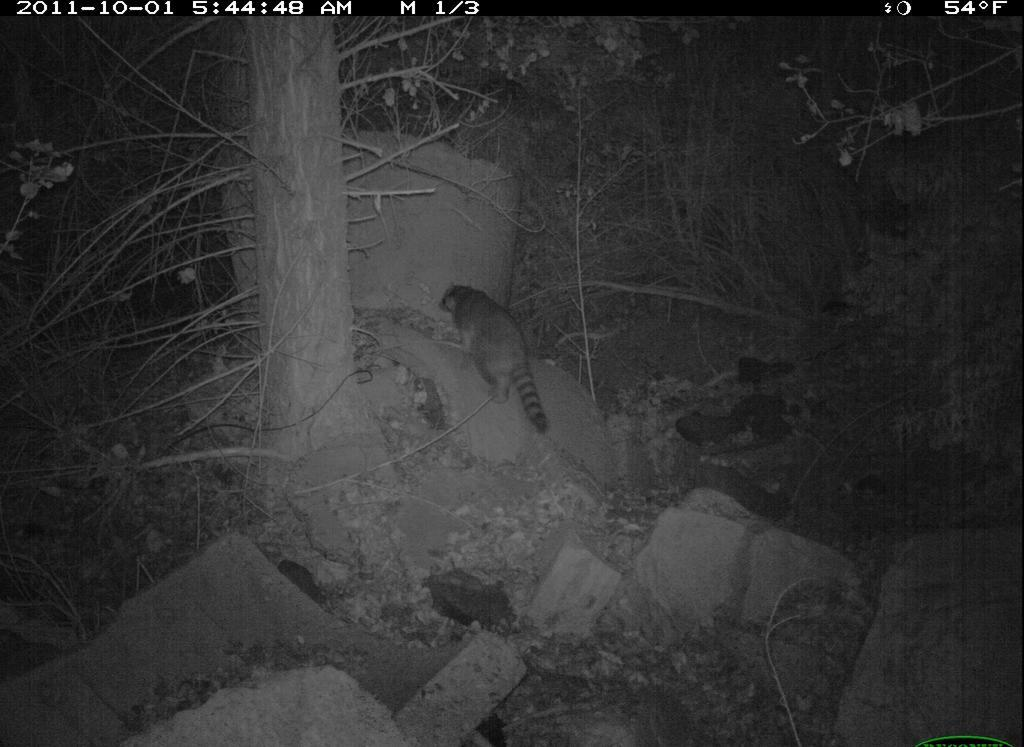raccoon: (438, 276, 551, 441)
